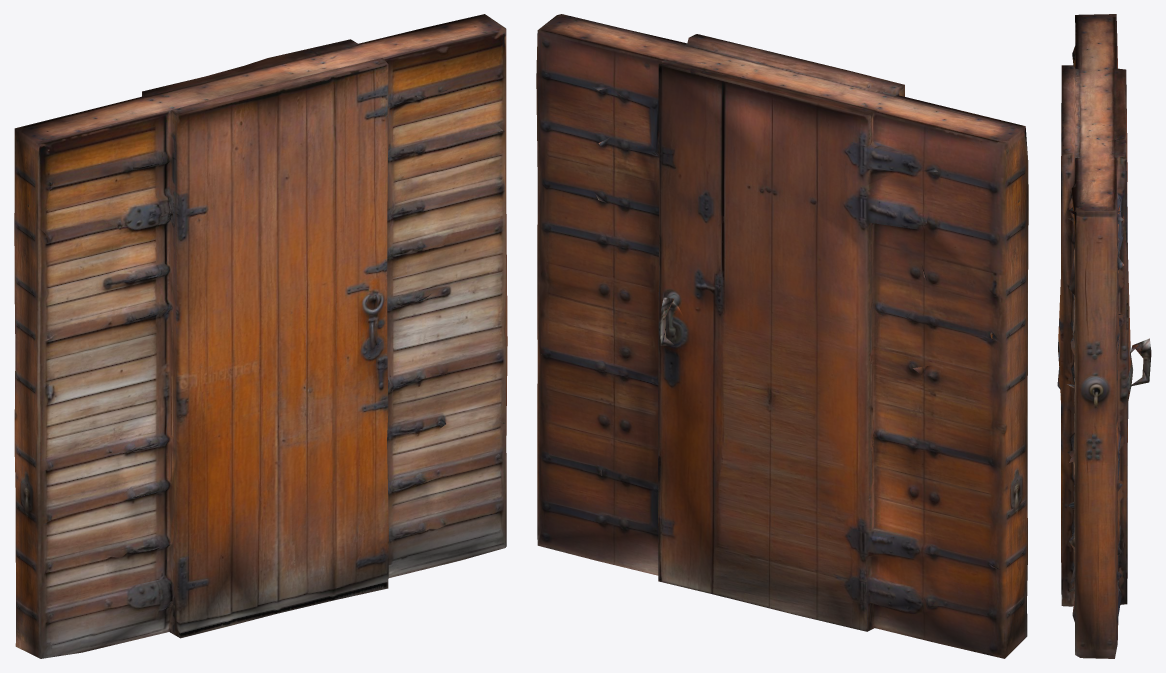
3 views of the same model, side by side, from view 1: azimuth 30°, elevation 25°; view 2: azimuth 150°, elevation 25°; view 3: azimuth 270°, elevation 25° (orthographic). The views are drawn at different scales.
Visible parts, largest first — view 1: Mesh1.0; view 2: Mesh1.0; view 3: Mesh1.0.
Boxes of the visible parts, box(x1,y1,x2,y2) form: Mesh1.0: box(14, 14, 507, 658); Mesh1.0: box(536, 14, 1028, 658); Mesh1.0: box(1057, 14, 1151, 658).
Size of the model in its own units: 188 by 200 by 37.58.
Materials: 1 (1 with a texture image).
